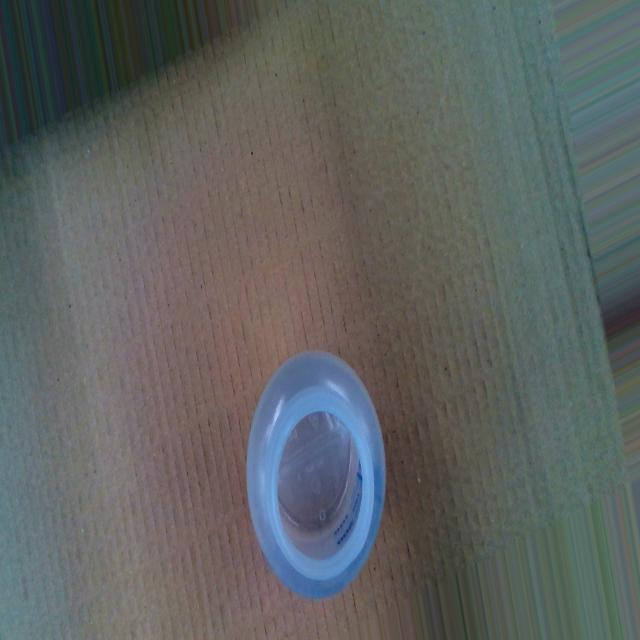bottle: (243, 344, 390, 605)
